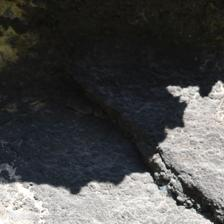Crack: (27, 37, 184, 184)
